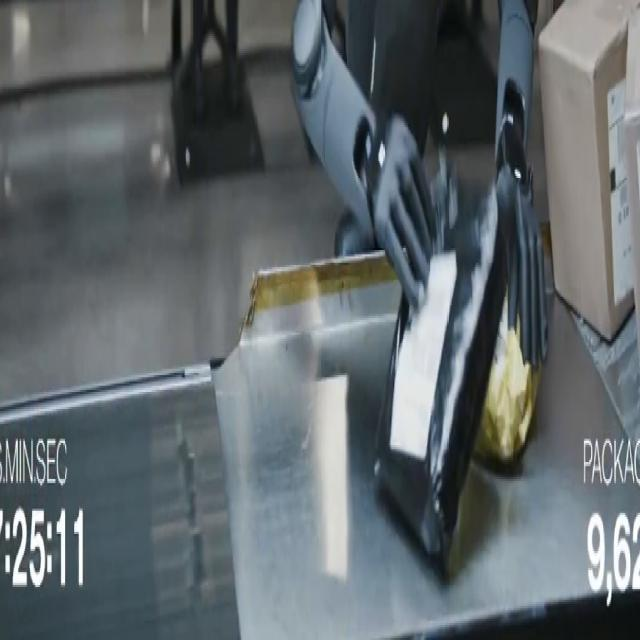package: (376, 162, 510, 574), (539, 0, 639, 339), (477, 301, 541, 470), (625, 9, 639, 309)
